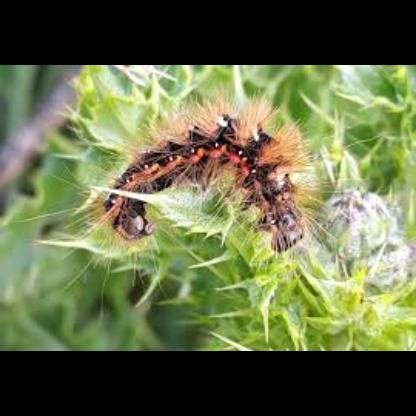oruga: (97, 116, 317, 266)
